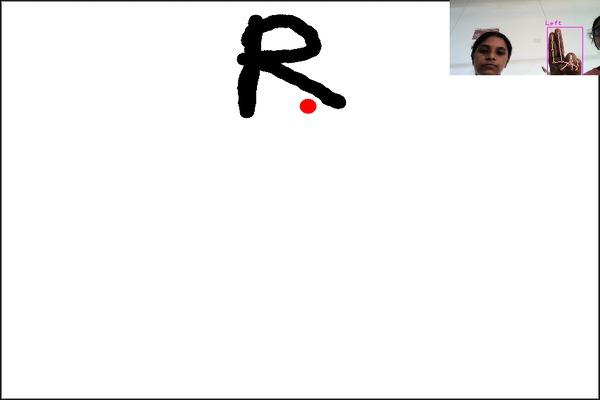R: (227, 8, 360, 131)
